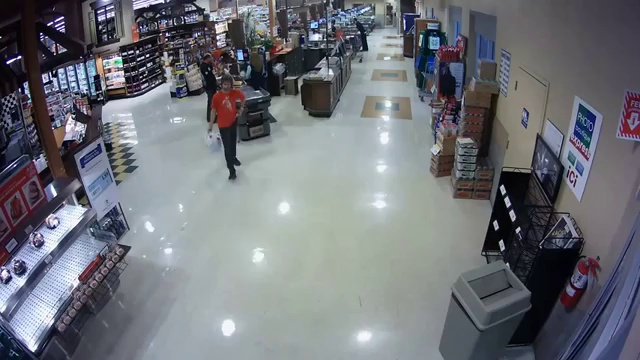face: (221, 80, 234, 91)
